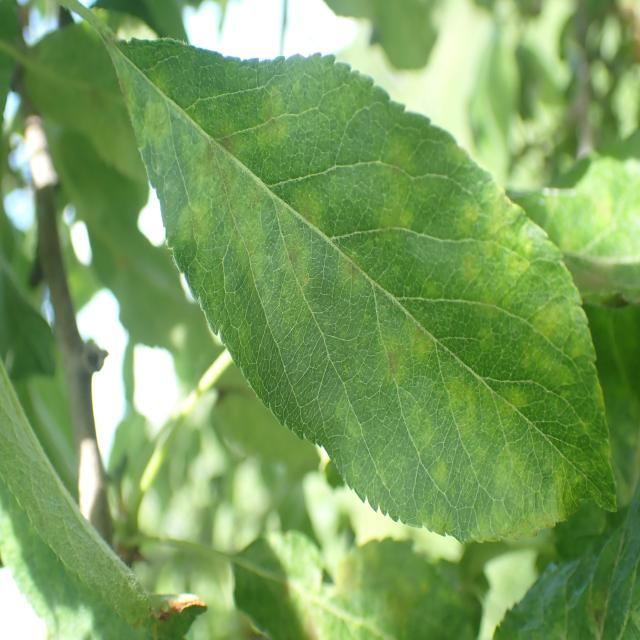scab: (106, 58, 606, 540)
